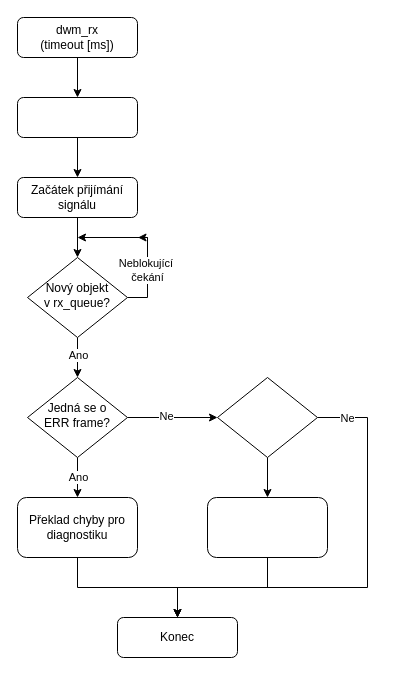
This 393x675 diagram has some shape labels left out. Here are the shapes that lost their labels. From the top down, the centre of each, then its label:
At point (77, 117): "Nastavení jak dluho má DWM poslouchat".
At point (267, 417): "Jedná se o validní frame?".
At point (267, 527): "Výpočet času přijetí Výpočet RSSI Výpočet FP power".
